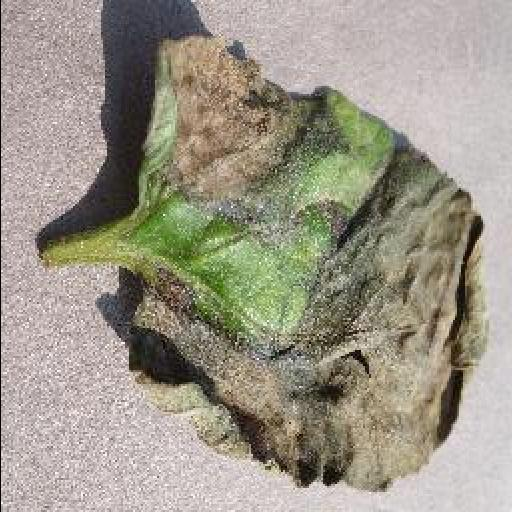disease_tomato: (126, 32, 484, 494)
